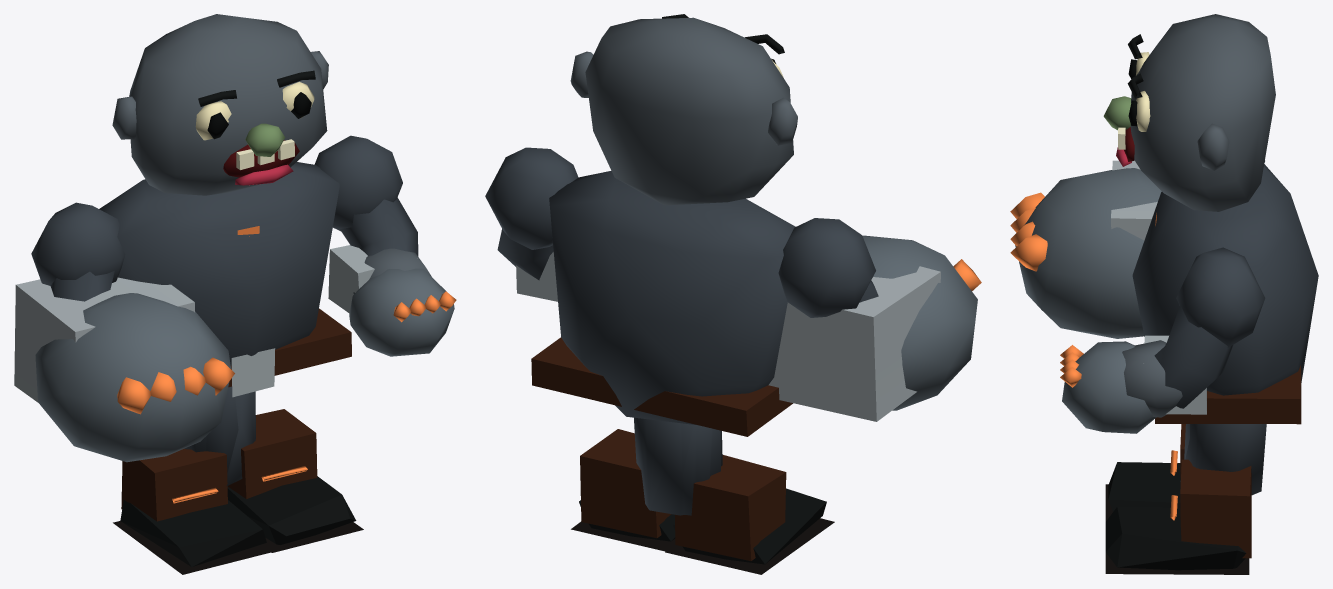
File: bruiser-lod.glb
The picture shows the model from 3 angles, left to right: view 1: azimuth 30°, elevation 25°; view 2: azimuth 150°, elevation 25°; view 3: azimuth 270°, elevation 25°; orthographic projection. The views are drawn at different scales.
Visible parts, largest first — view 1: Arms, Body, Head, LegL, LegR; view 2: Body, Arms, Head, LegL, LegR; view 3: Arms, Body, Head, LegR, LegL.
Part boxes in pixels (x1=…): Arms: x1=14, y1=135, x2=456, y2=462; Body: x1=99, y1=162, x2=351, y2=397; Head: x1=112, y1=14, x2=328, y2=195; LegL: x1=113, y1=391, x2=274, y2=574; LegR: x1=184, y1=386, x2=363, y2=552; Body: x1=531, y1=171, x2=795, y2=436; Arms: x1=485, y1=147, x2=981, y2=421; Head: x1=570, y1=14, x2=797, y2=205; LegL: x1=634, y1=418, x2=834, y2=574; LegR: x1=571, y1=417, x2=720, y2=551; Arms: x1=1010, y1=160, x2=1265, y2=433; Body: x1=1132, y1=164, x2=1318, y2=424; Head: x1=1103, y1=14, x2=1275, y2=211; LegR: x1=1105, y1=424, x2=1262, y2=574; LegL: x1=1105, y1=424, x2=1266, y2=521.
Size of the model in its own units: 0.9861 by 1.16 by 0.642.
Materials: 1 (1 with a texture image).
